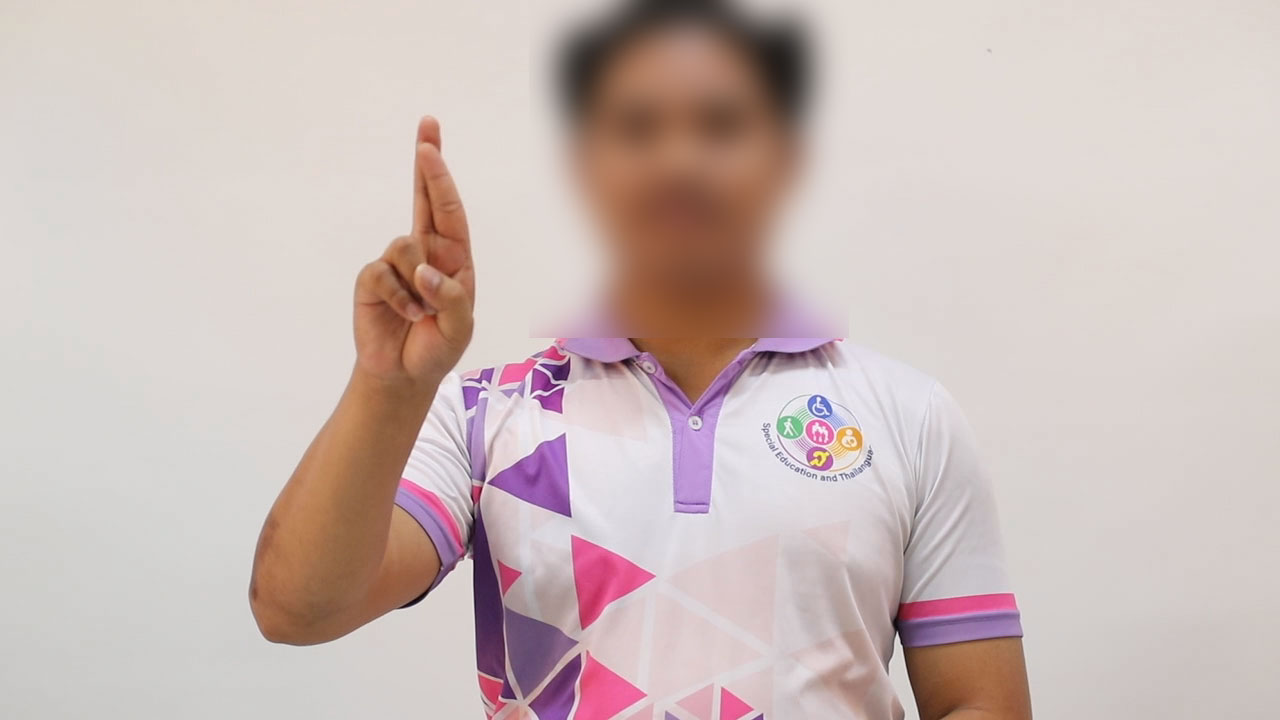rao: (314, 108, 485, 387)
